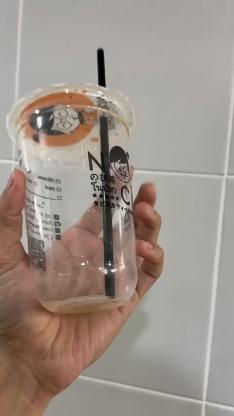Plastic Cup: (6, 82, 138, 312)
